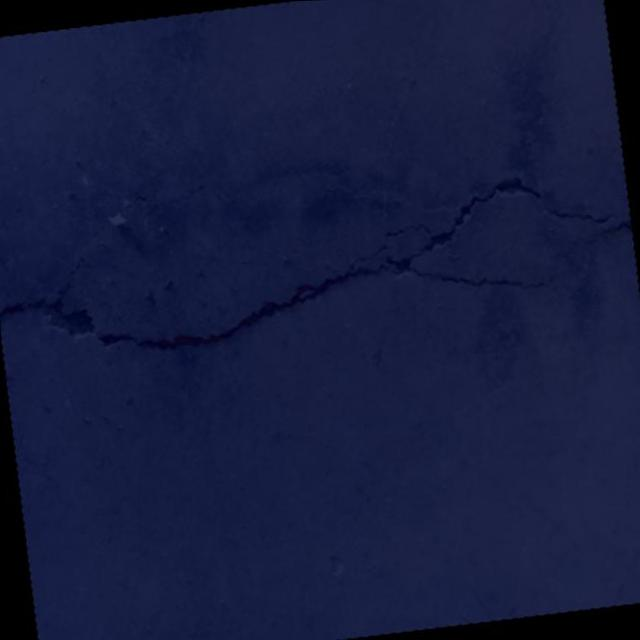crack: (0, 137, 630, 372), (173, 178, 256, 220), (552, 216, 634, 258), (98, 295, 124, 328), (128, 314, 157, 330)
